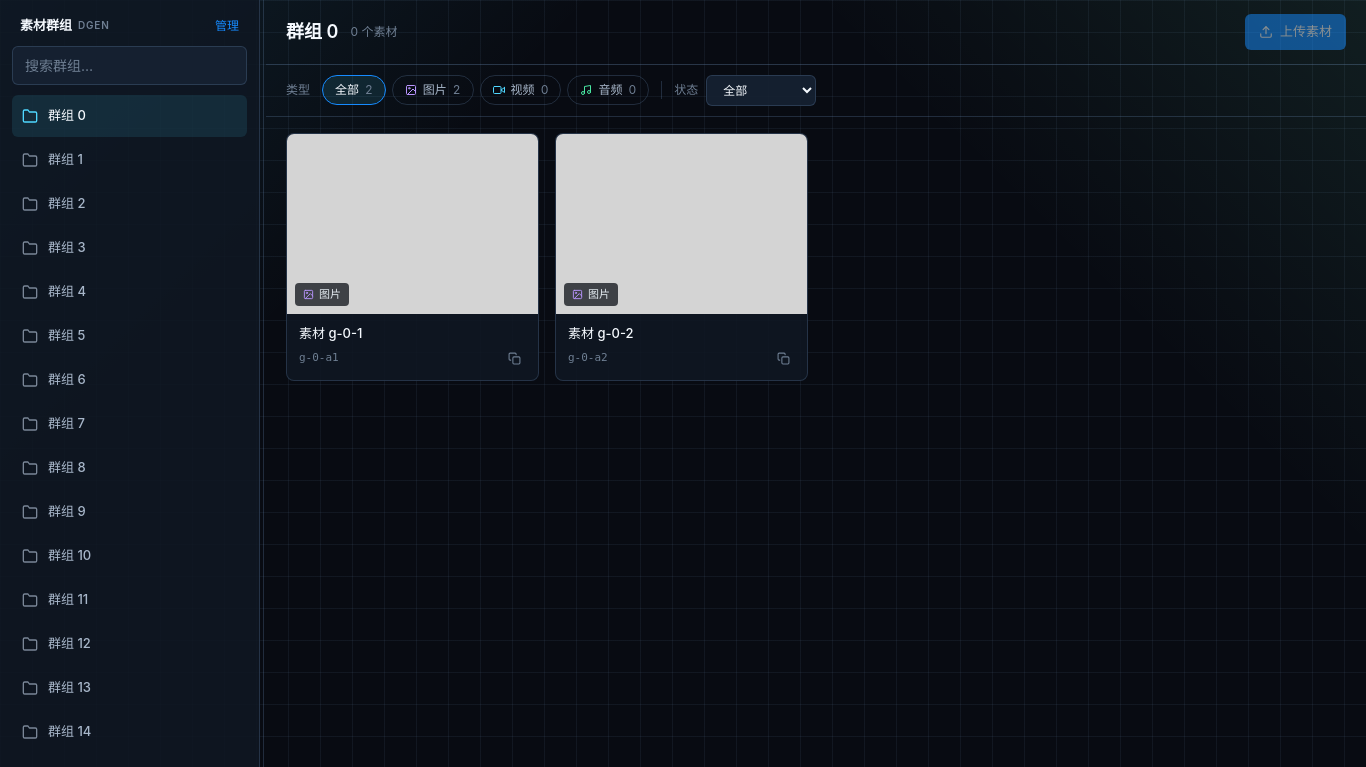
Test: server-side group search (>1000 groups) › a full reload still in flight cannot overwrite newer search results
The image size is (1366, 767).
Expected: the element with test id "group-row-g-0" is shown, [12,94,247,136]
Type "567" into the search field labelled "搜索群组".
click(130, 65); type("567")  # box [12,46,247,84]
Wait 320 ms
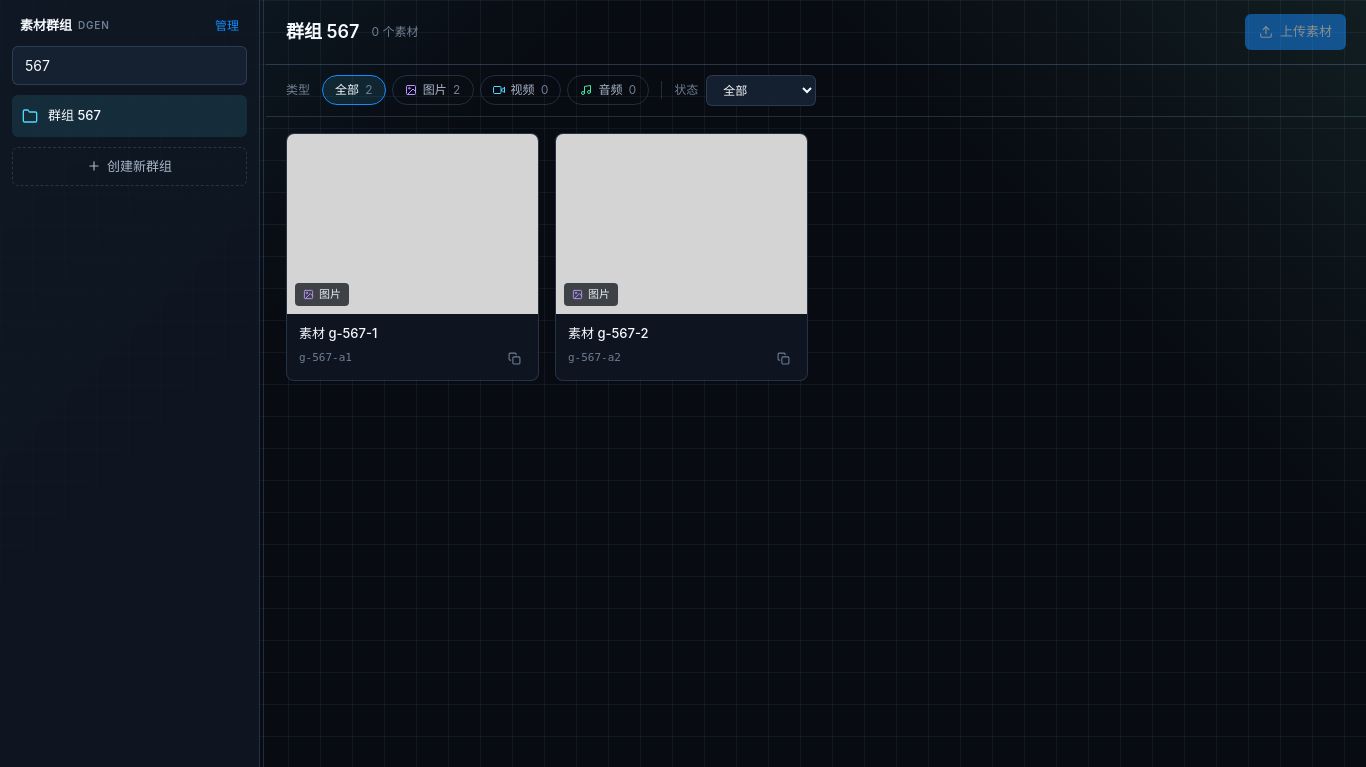
Result: the element with test id "group-row-g-567" is shown at [12,94,247,136]
Replace the text in the search field named "搜索群组" with "1234" at (130, 65), box [12,46,247,84]
Wait 320 ms
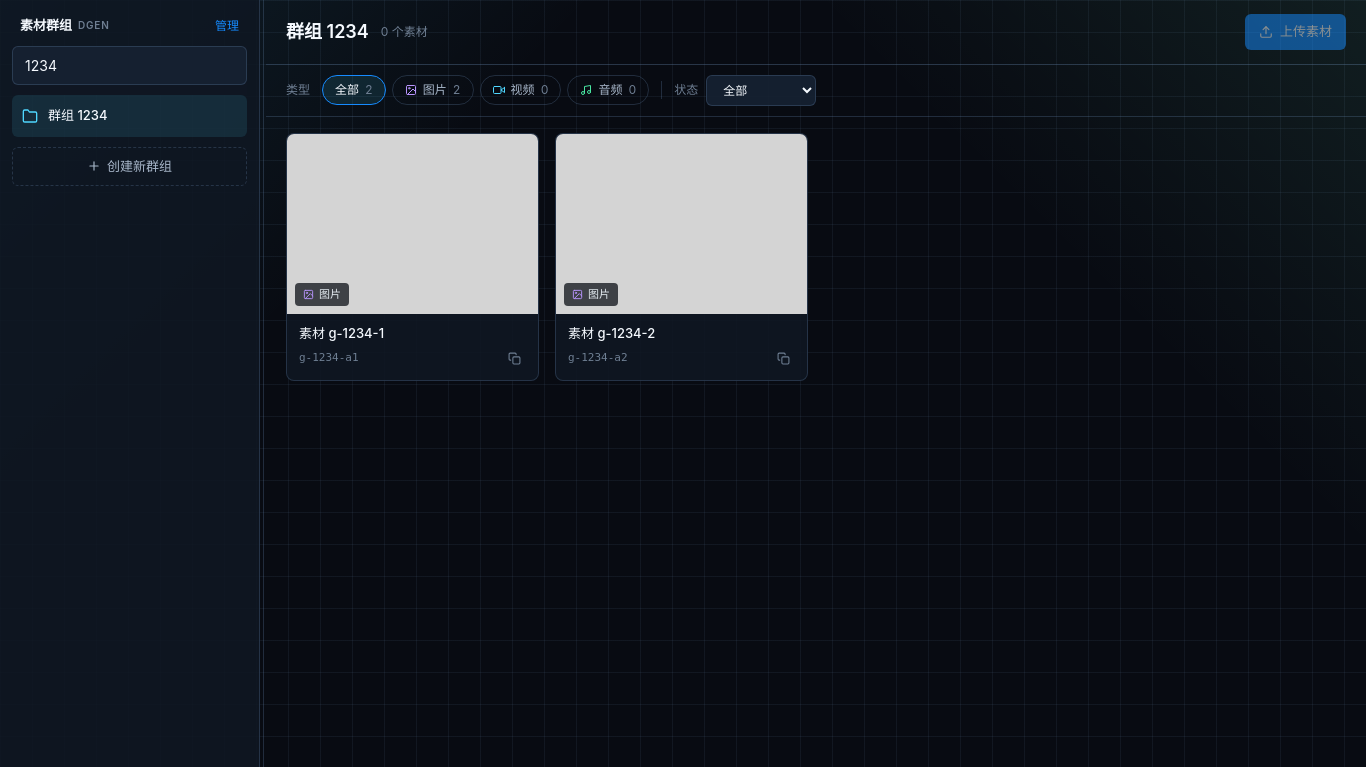
Result: the element with test id "group-row-g-1234" is shown at [12,94,247,136]
